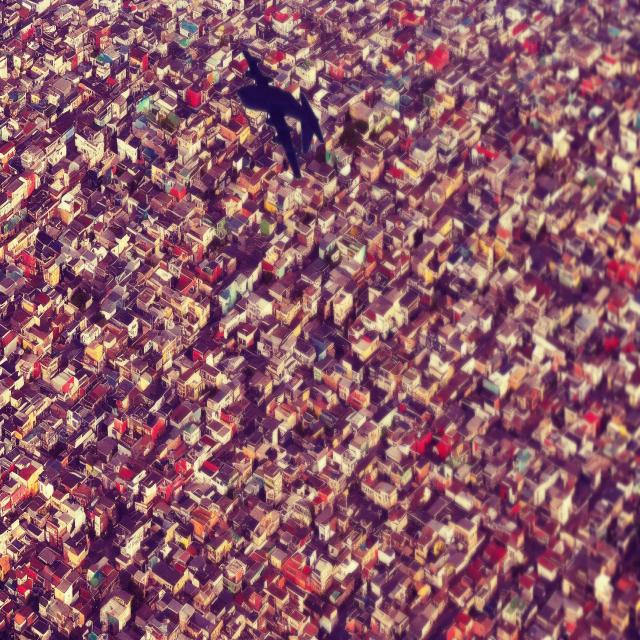airplane: (238, 39, 325, 179)
